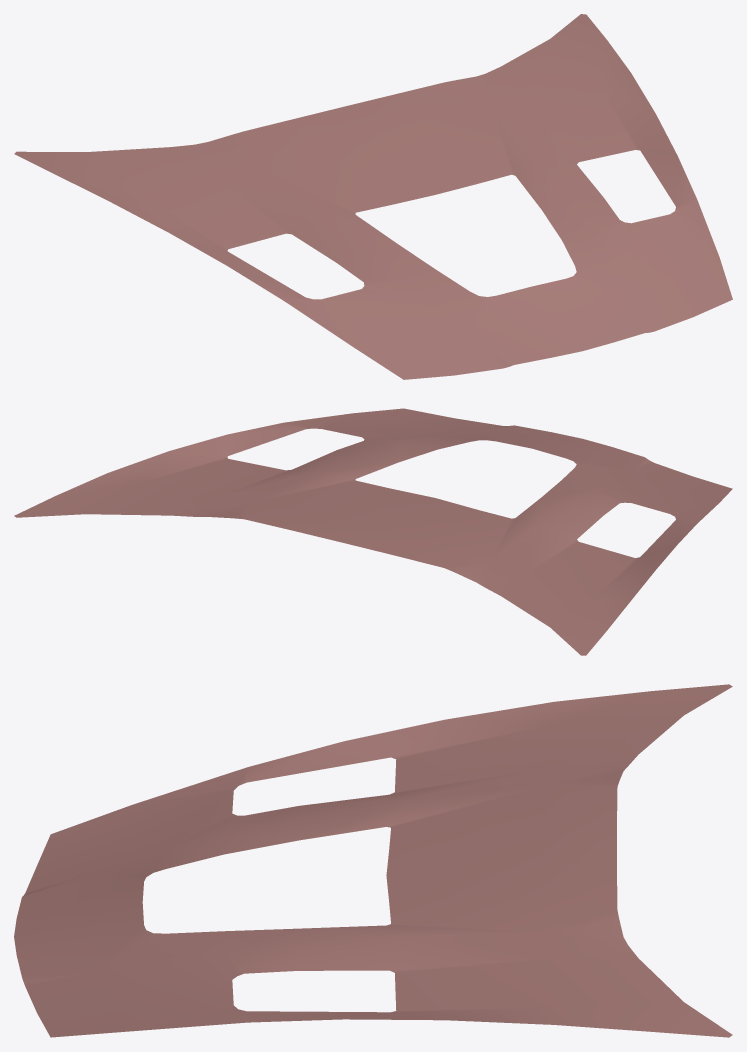
The model's file is Zr1_Hood_03_Trim.fbx.
3 renders of one model, top to bottom at view 1: azimuth 30°, elevation 25°; view 2: azimuth 150°, elevation 25°; view 3: azimuth 270°, elevation 25°, orthographic. The views are drawn at different scales.
Visible parts, largest first — view 1: Zr1_Hood_03_Trim; view 2: Zr1_Hood_03_Trim; view 3: Zr1_Hood_03_Trim.
Part boxes in pixels (bbox=[...]): Zr1_Hood_03_Trim: bbox=[14, 14, 732, 379]; Zr1_Hood_03_Trim: bbox=[14, 408, 732, 655]; Zr1_Hood_03_Trim: bbox=[14, 684, 732, 1037].
Size of the model in its own units: 153 by 18.43 by 131.
